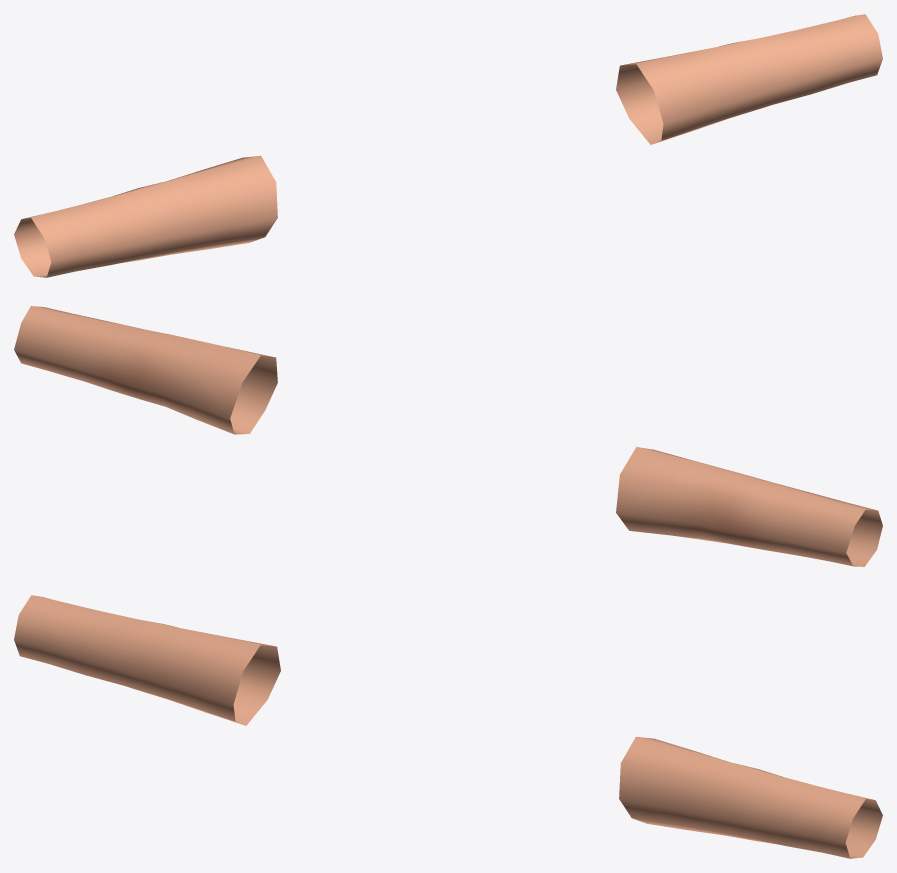
Rendered from Body_Yellow_ArmA_2.fbx.
3 views of the same model, one above another, from view 1: azimuth 30°, elevation 25°; view 2: azimuth 150°, elevation 25°; view 3: azimuth 330°, elevation 25° (orthographic).
Visible parts, largest first — view 1: Body_Yellow_ArmA_2; view 2: Body_Yellow_ArmA_2; view 3: Body_Yellow_ArmA_2.
Boxes of the visible parts, left/top/right/bottom form: Body_Yellow_ArmA_2: left=14, top=14, right=882, bottom=277; Body_Yellow_ArmA_2: left=14, top=306, right=882, bottom=566; Body_Yellow_ArmA_2: left=14, top=595, right=882, bottom=858.
Size of the model in its own units: 95.86 by 9.1 by 9.47.
